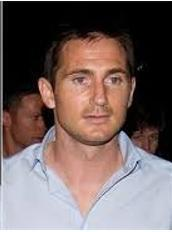Drunk: (56, 40, 128, 140)
